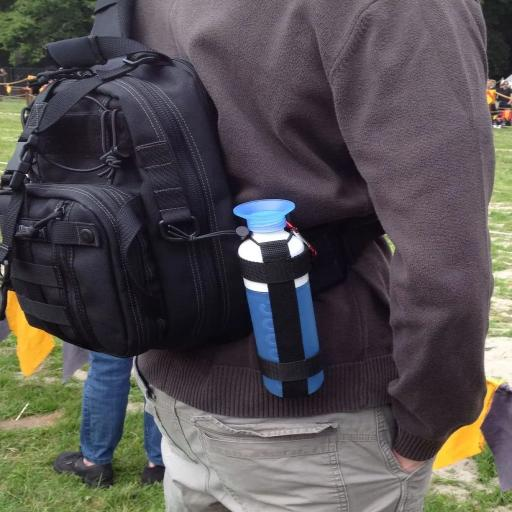bench: (236, 193, 349, 413)
crosswalk: (71, 0, 500, 512)
door: (0, 19, 241, 364)
